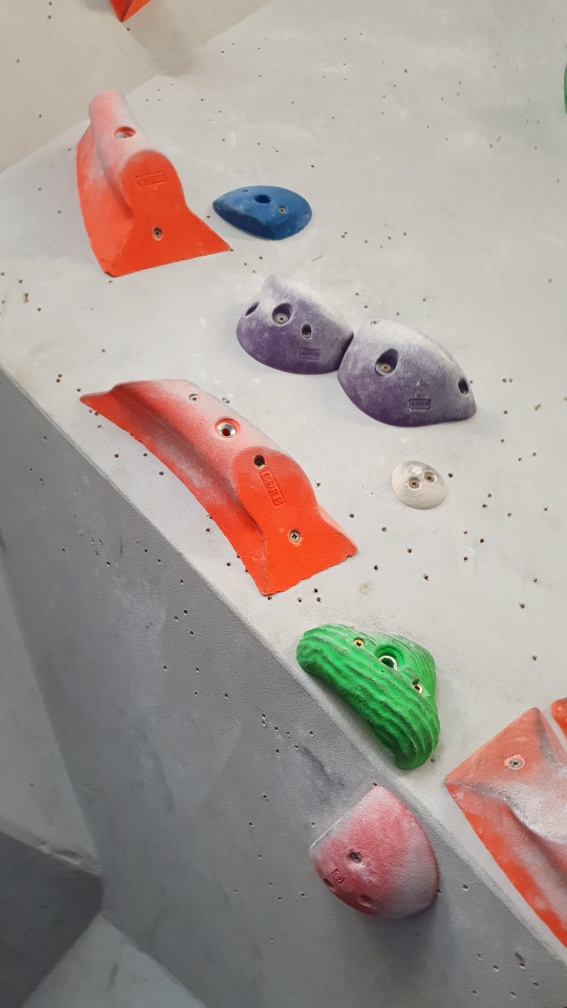Jug: (299, 617, 443, 774), (341, 318, 480, 430), (235, 272, 354, 381)
Pinch: (79, 372, 361, 595), (440, 708, 566, 949), (79, 87, 232, 280)
Sloper: (311, 784, 442, 921)
